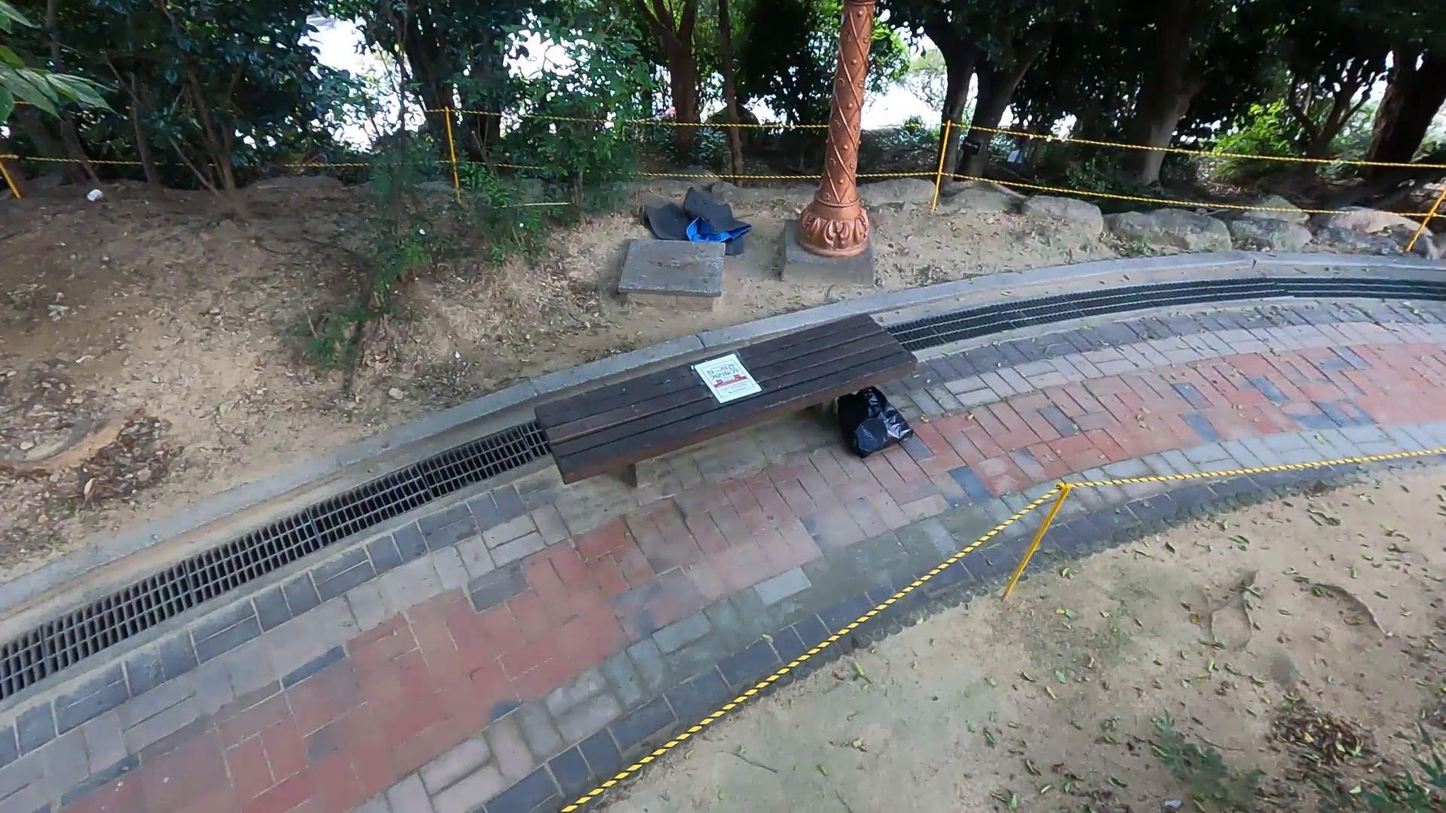trash: (636, 183, 752, 258), (830, 387, 917, 459)
